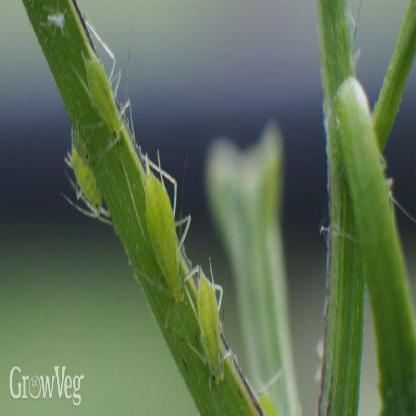aphid: (127, 141, 190, 318), (80, 13, 133, 157), (189, 258, 229, 394), (63, 122, 109, 226), (41, 0, 70, 48)
